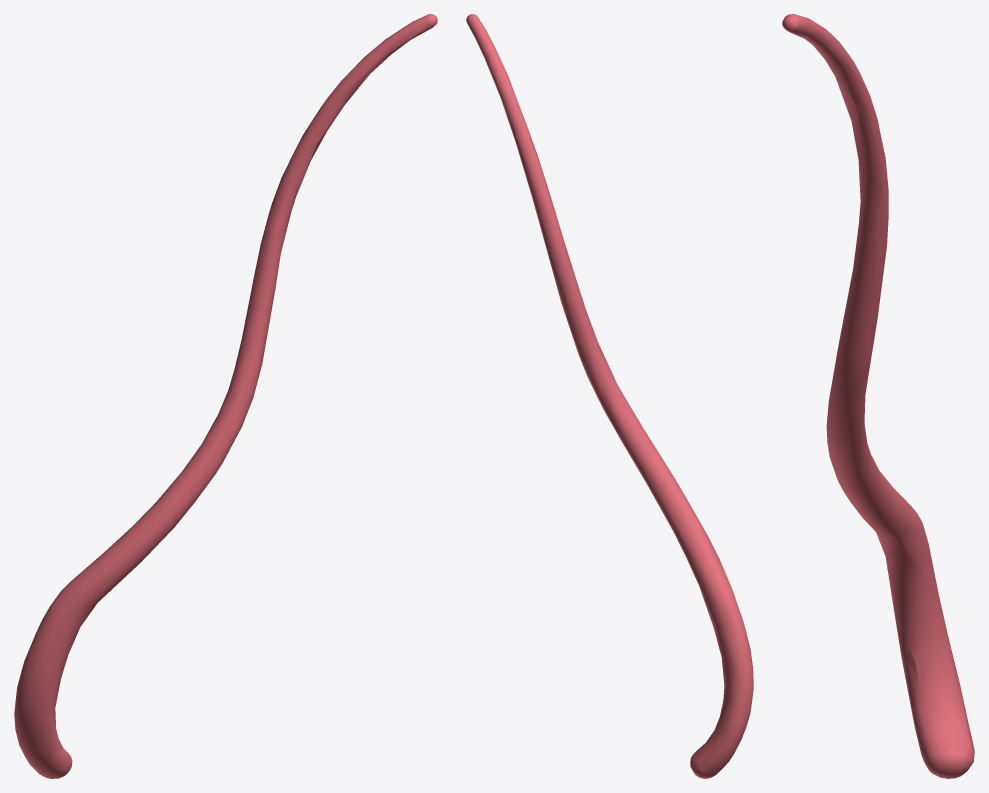
File: fma50480_fj1670.glb
The picture shows the model from 3 angles, left to right: view 1: azimuth 30°, elevation 25°; view 2: azimuth 150°, elevation 25°; view 3: azimuth 270°, elevation 25°; orthographic projection. The views are drawn at different scales.
Visible parts, largest first — view 1: FMA50480_FJ1670; view 2: FMA50480_FJ1670; view 3: FMA50480_FJ1670.
Part boxes in pixels (left/top/right/bottom): FMA50480_FJ1670: left=14, top=14, right=437, bottom=778; FMA50480_FJ1670: left=466, top=14, right=753, bottom=778; FMA50480_FJ1670: left=782, top=14, right=974, bottom=778.
Bounding box in the file's own units: 0.0142 × 0.0269 × 0.00484.
